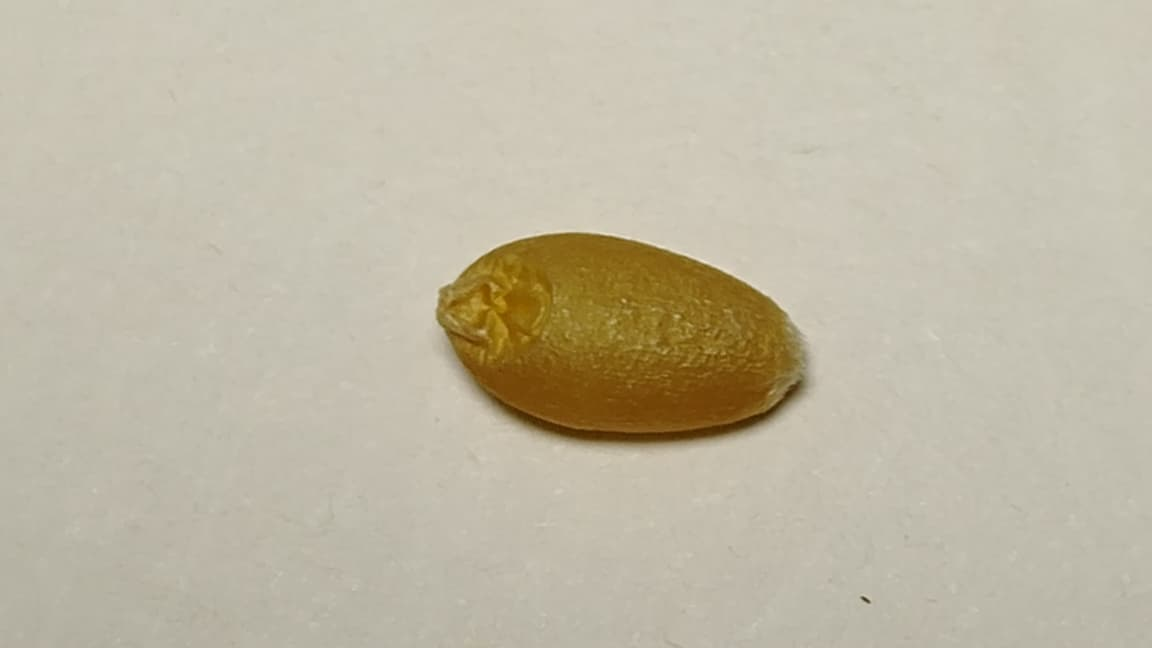healthy: (437, 231, 806, 440)
